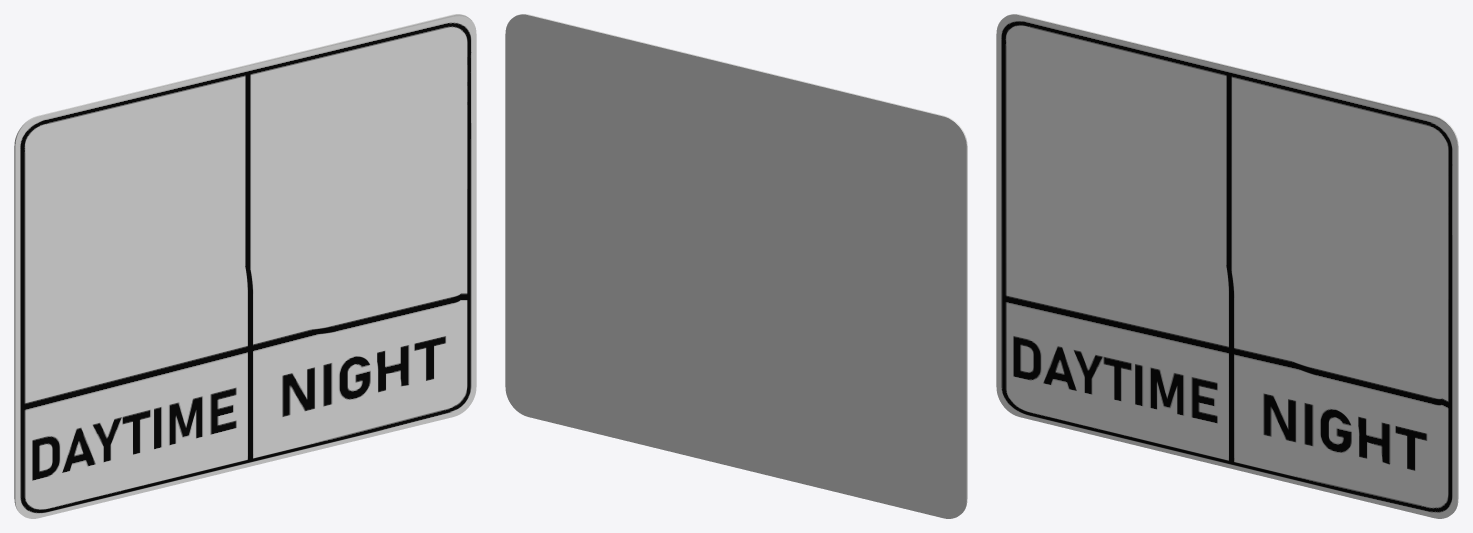
The model's file is TrafficSign_Rect.fbx.
The picture shows the model from 3 angles, left to right: view 1: azimuth 30°, elevation 25°; view 2: azimuth 150°, elevation 25°; view 3: azimuth 330°, elevation 25°; orthographic projection.
Visible parts, largest first — view 1: 立方体; view 2: 立方体; view 3: 立方体.
Boxes of the visible parts, <box> form: 立方体: <box>14,14,476,518</box>; 立方体: <box>505,14,967,518</box>; 立方体: <box>996,14,1458,518</box>.
Size of the model in its own units: 240 by 200 by 0.8.
